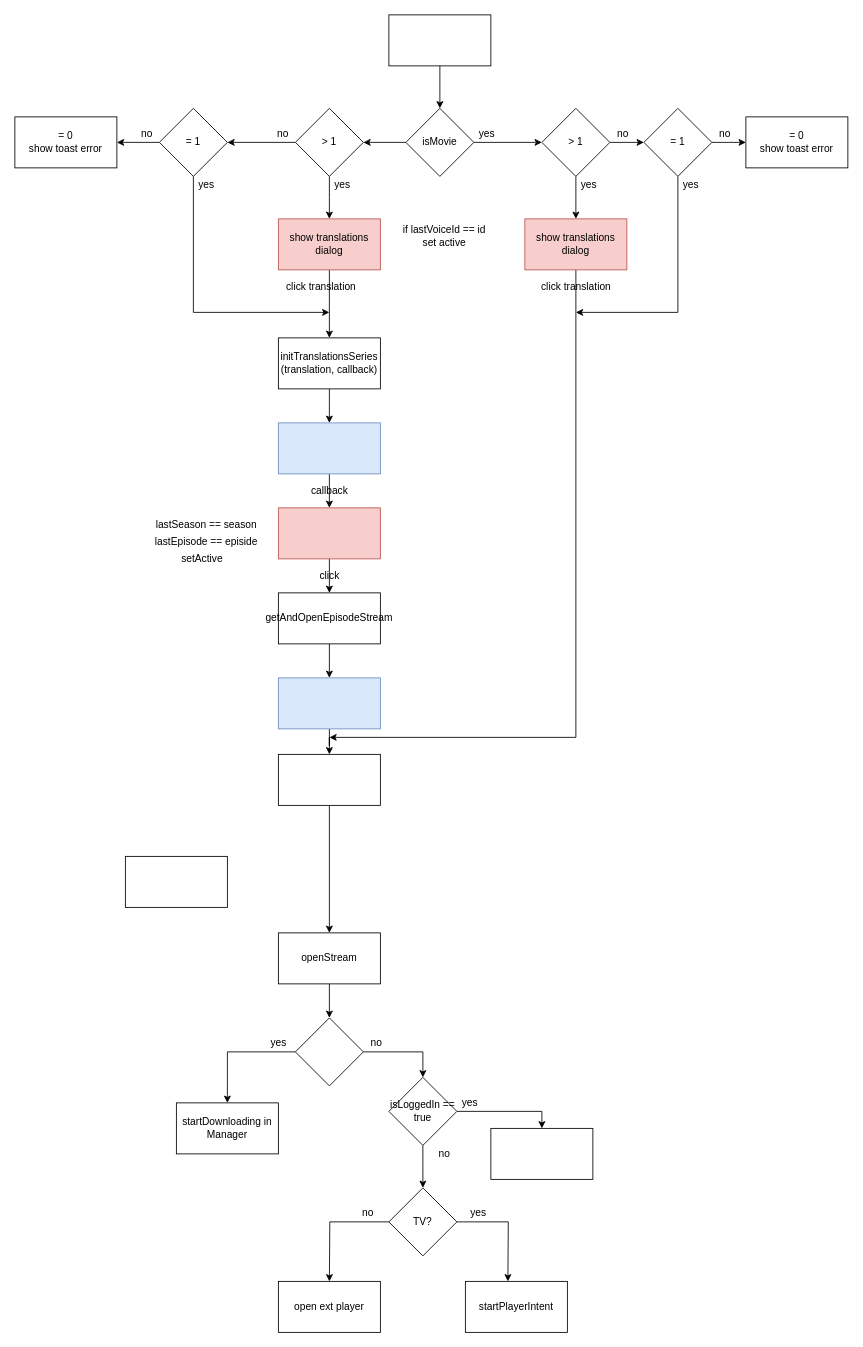
The diagram is 863 pixels wide and 1347 high, and some of its shapes have lost their labels. Each missing label, with the centre of its shape:
FilmModel.getSeasons: (x=329, y=448)
FilmModel.getStreamsByEpisodeId: (x=329, y=703)
FilmModel.parseStreams: (x=176, y=881)
initStreams: (x=329, y=779)
isDownload: (x=329, y=1051)
showTranslations (isDownload): (x=439, y=40)
showTranslationsSeries (seasons): (x=329, y=533)
updateWatchLater: (x=541, y=1153)
